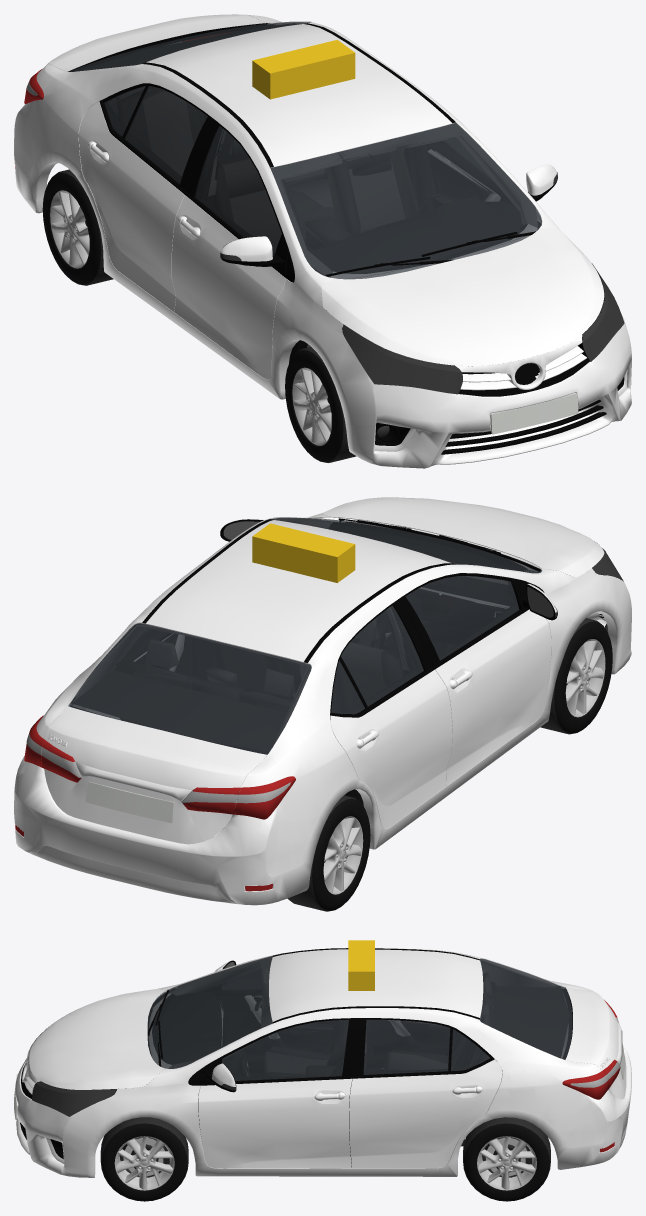
3 views of the same model, one above another, from view 1: azimuth 30°, elevation 25°; view 2: azimuth 150°, elevation 25°; view 3: azimuth 270°, elevation 25° (orthographic). The views are drawn at different scales.
Visible parts, largest first — view 1: body, glass, interior, wheel_FL, wheel_RL; view 2: body, glass, interior, wheel_RL, wheel_FL; view 3: body, glass, interior, wheel_FR, wheel_RR.
Boxes of the visible parts, box(x1,y1,x2,y2) form: body: box(14, 14, 631, 468); glass: box(70, 22, 542, 279); interior: box(80, 23, 541, 363); wheel_FL: box(285, 347, 370, 462); wheel_RL: box(42, 169, 113, 285); body: box(14, 497, 631, 905); glass: box(68, 517, 541, 754); interior: box(71, 519, 540, 806); wheel_RL: box(287, 795, 370, 911); wheel_FL: box(540, 618, 612, 734); body: box(14, 940, 631, 1177); glass: box(147, 956, 572, 1080); interior: box(148, 957, 569, 1146); wheel_FR: box(100, 1117, 188, 1201); wheel_RR: box(463, 1117, 550, 1201).
Size of the model in its own units: 2.17 by 1.63 by 4.62.
